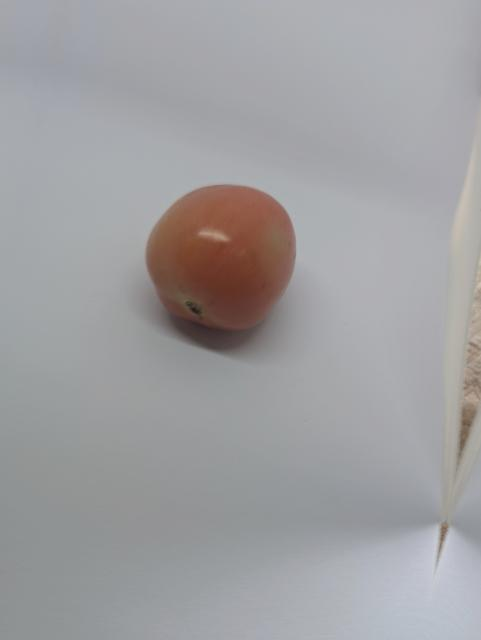red: (140, 180, 309, 337)
